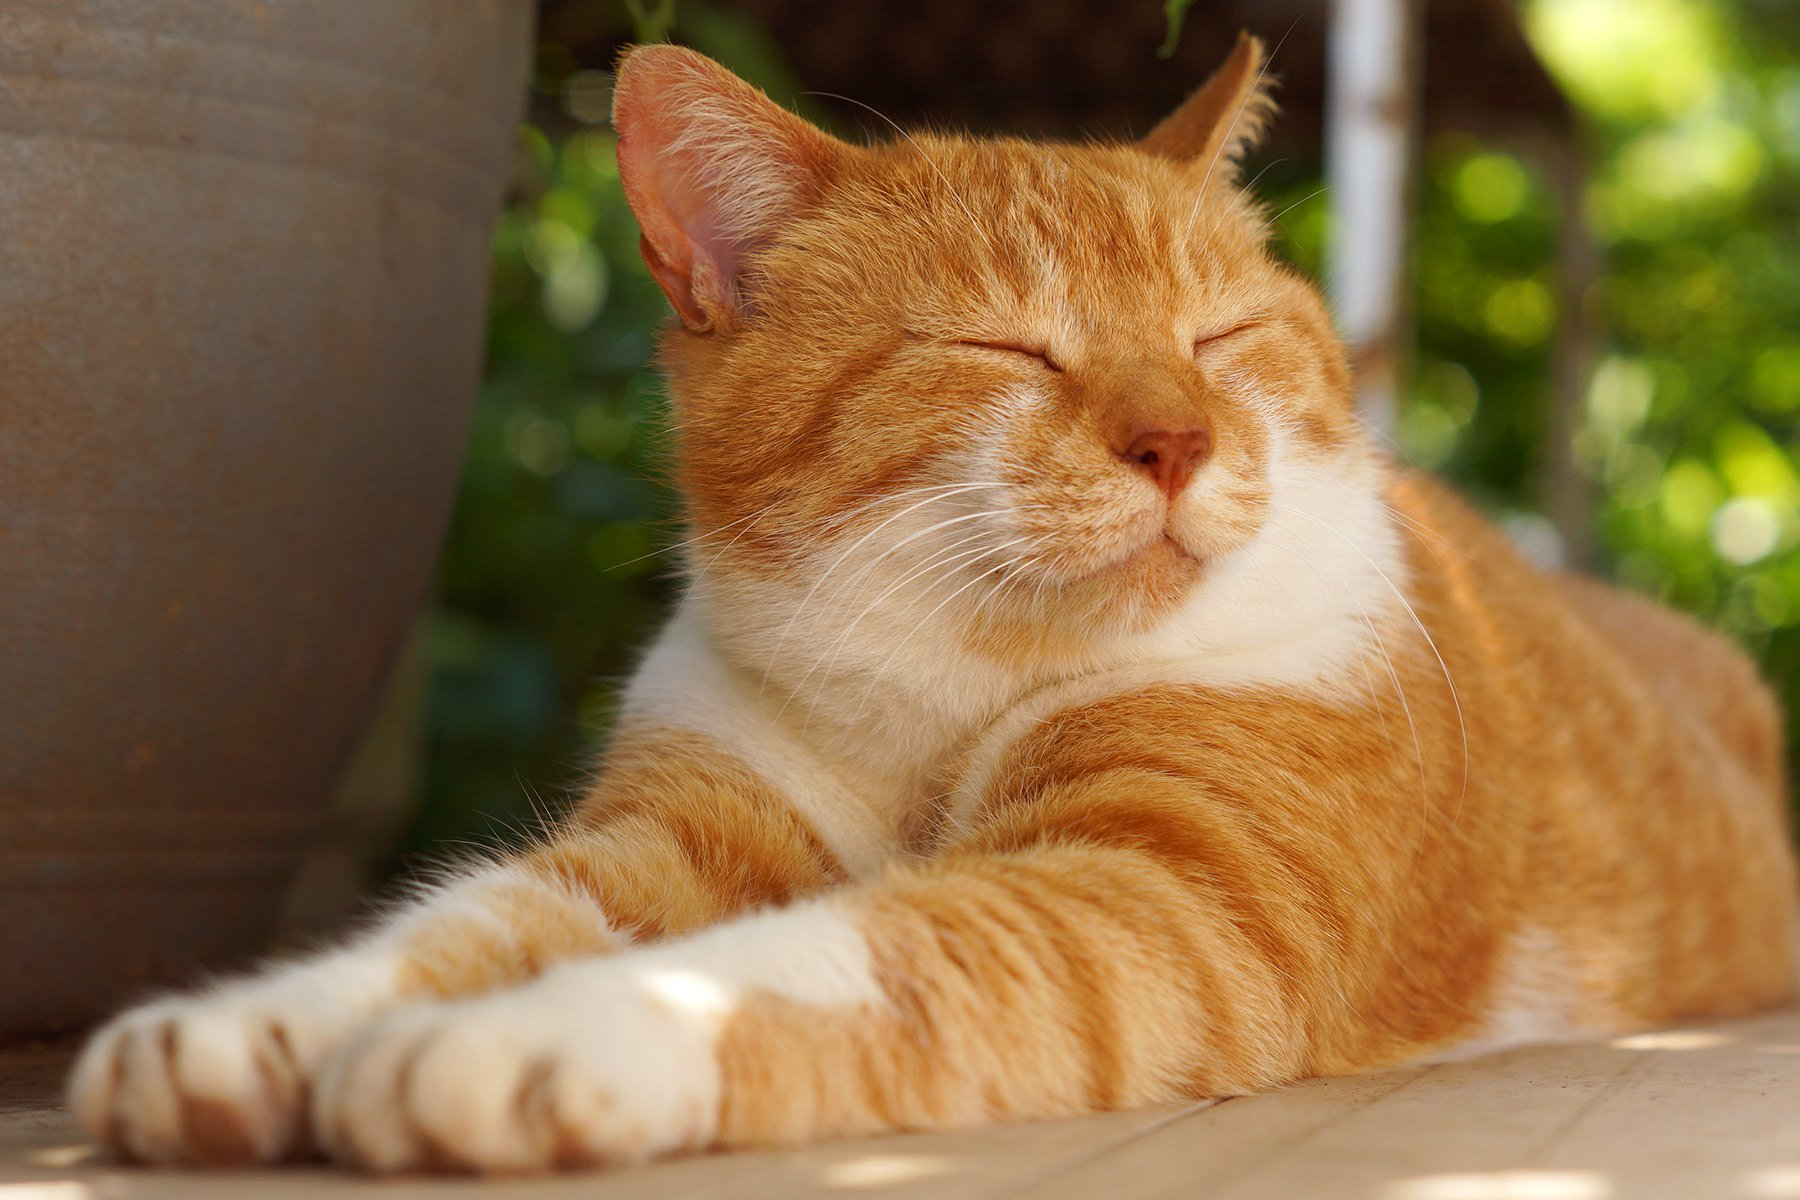cat: (264, 42, 1764, 1065)
